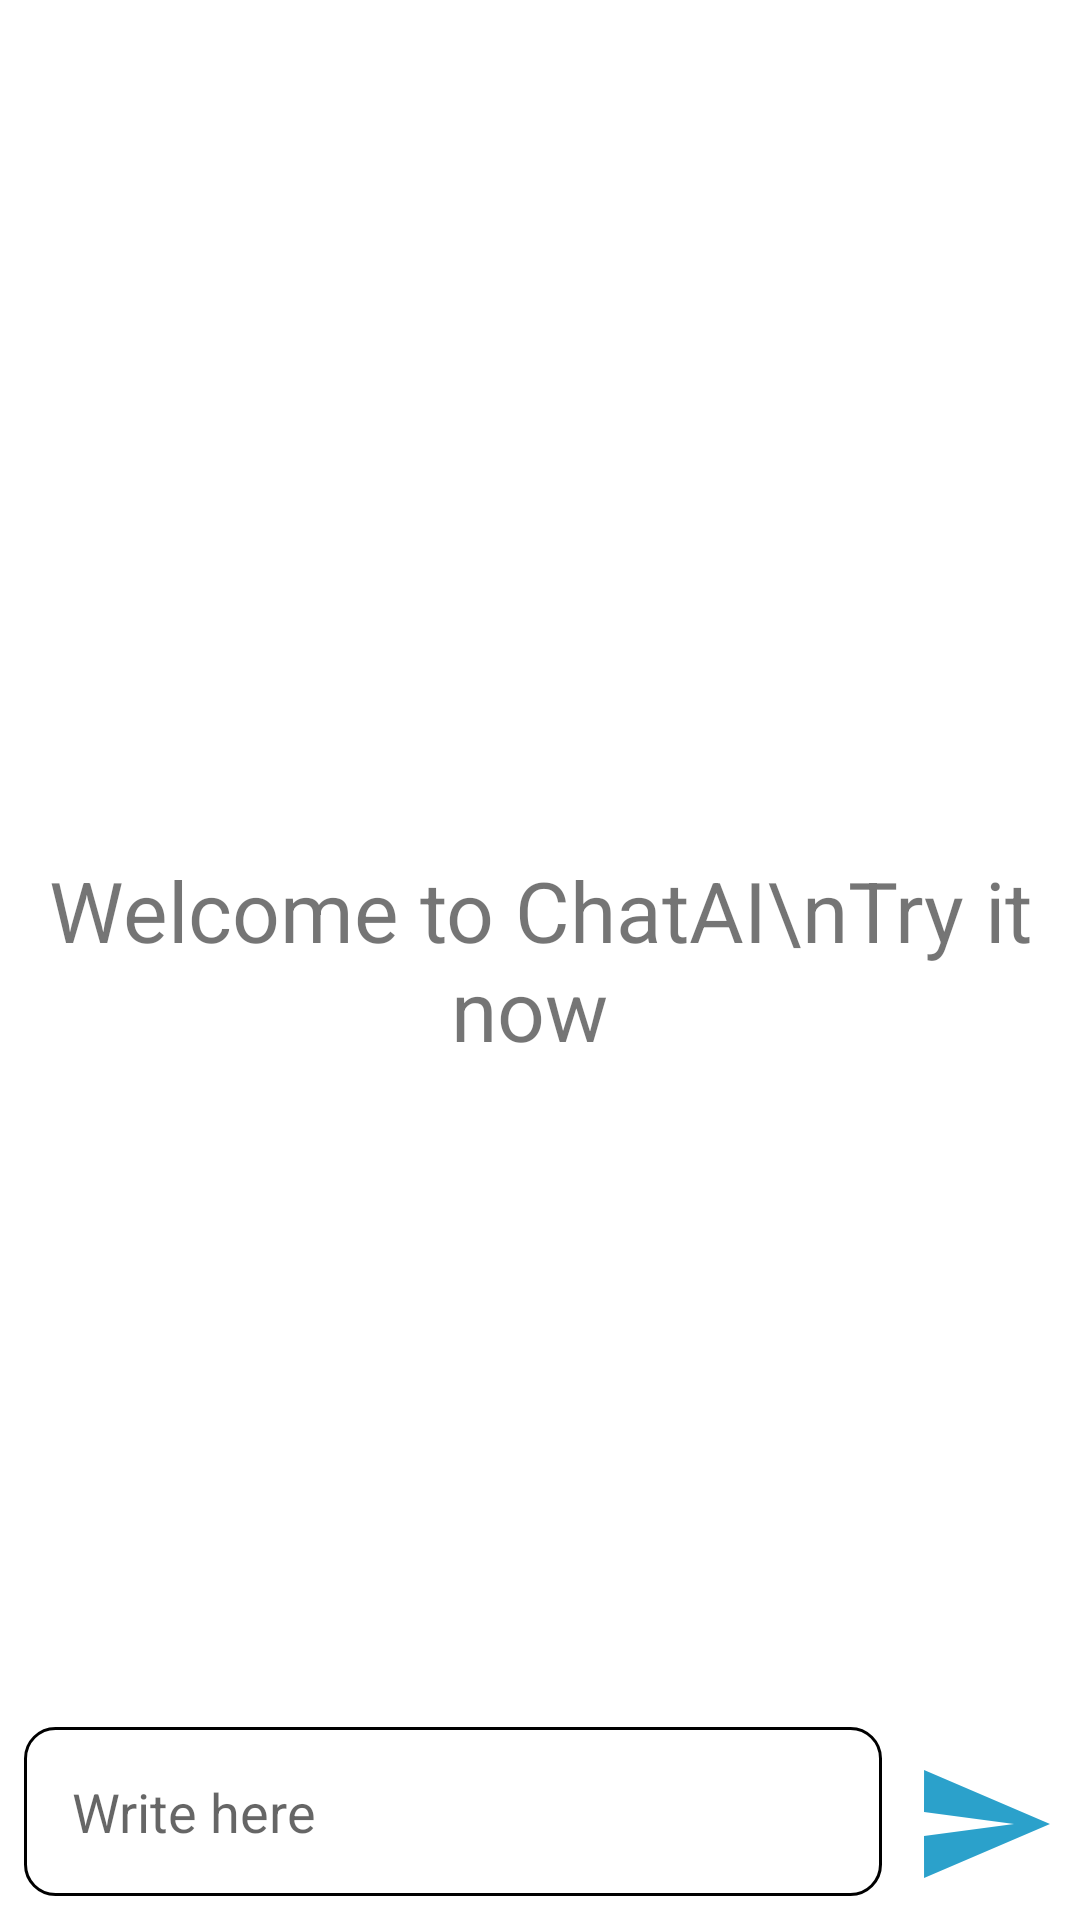

Where to tap for icons on this 1080w x 1920h app screen, as (x,y):
send: (987,1824)
